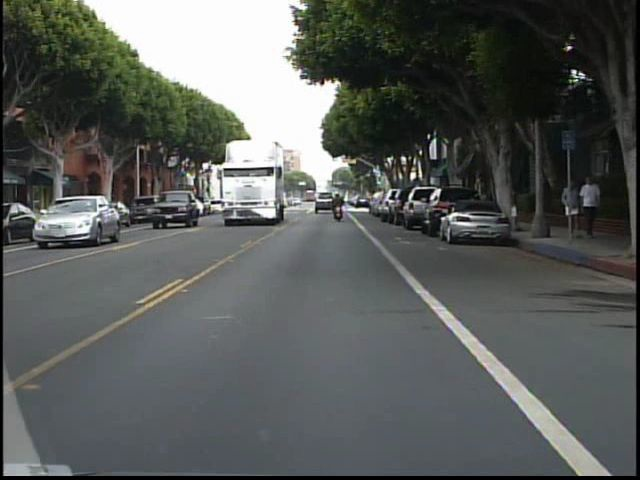person: (579, 171, 604, 237), (558, 175, 578, 236), (329, 189, 349, 221)
